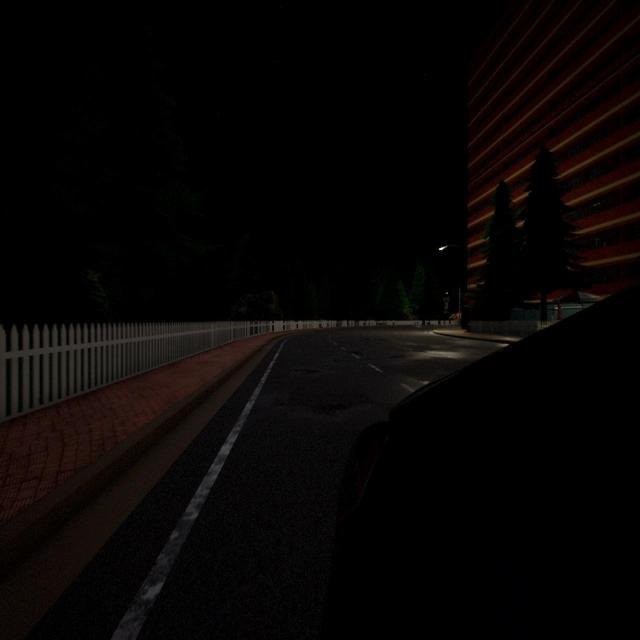Vehicle: (321, 287, 640, 639)
